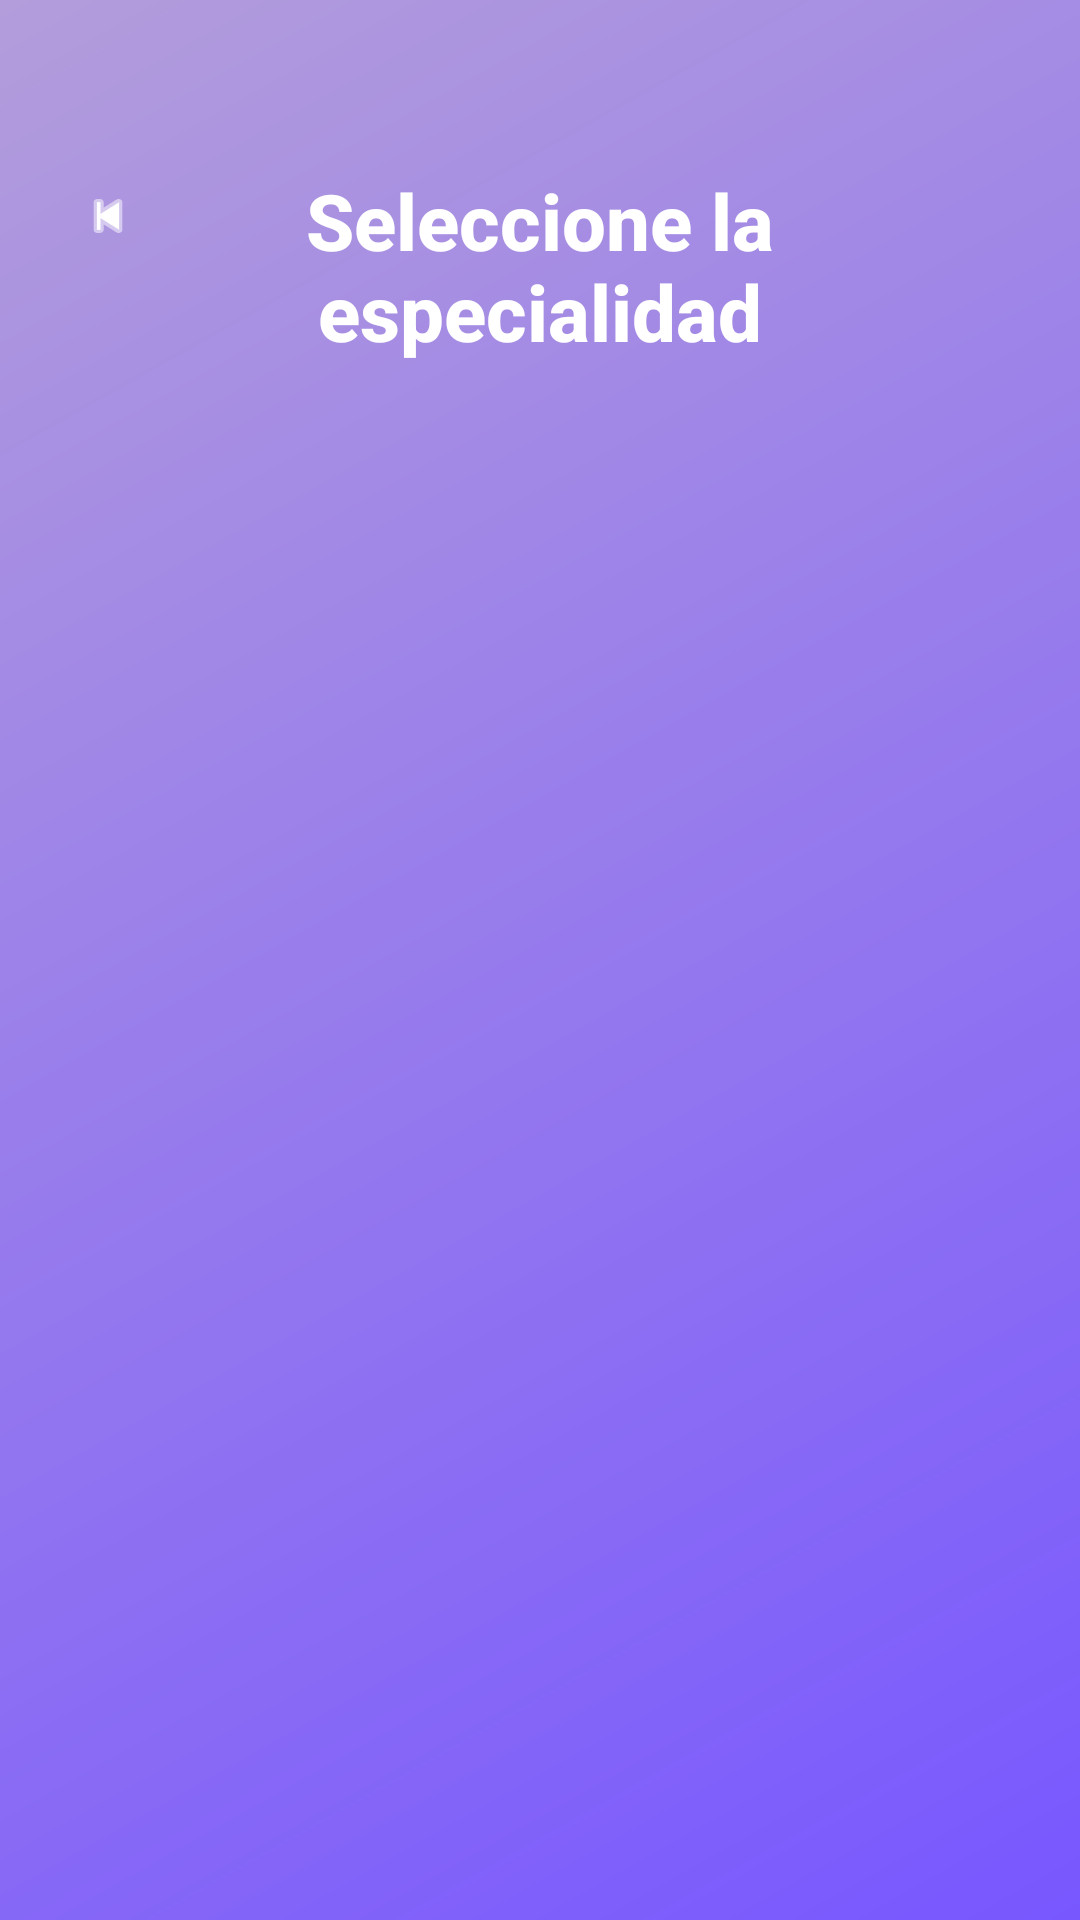

Where icons sit on this 1080x1920 app screen, as (x1, y1, x2, y2):
Volver: (94, 199, 122, 233)
